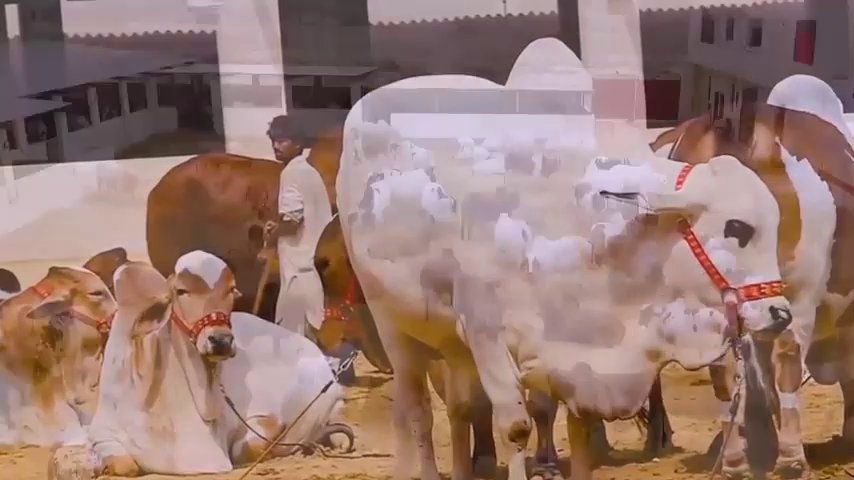bo: (324, 33, 799, 480), (672, 72, 854, 476), (93, 257, 354, 479), (1, 254, 107, 455), (136, 146, 259, 281)
